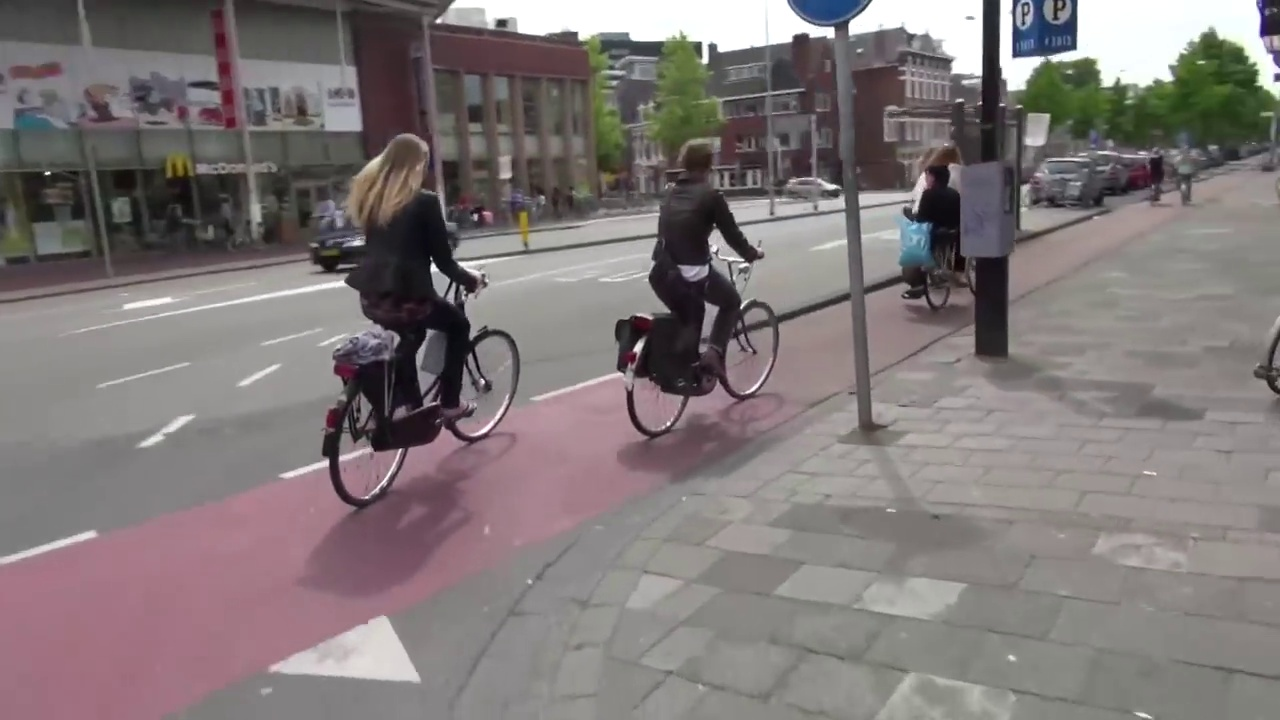cyclist_side: (316, 128, 529, 506), (615, 118, 794, 438)
